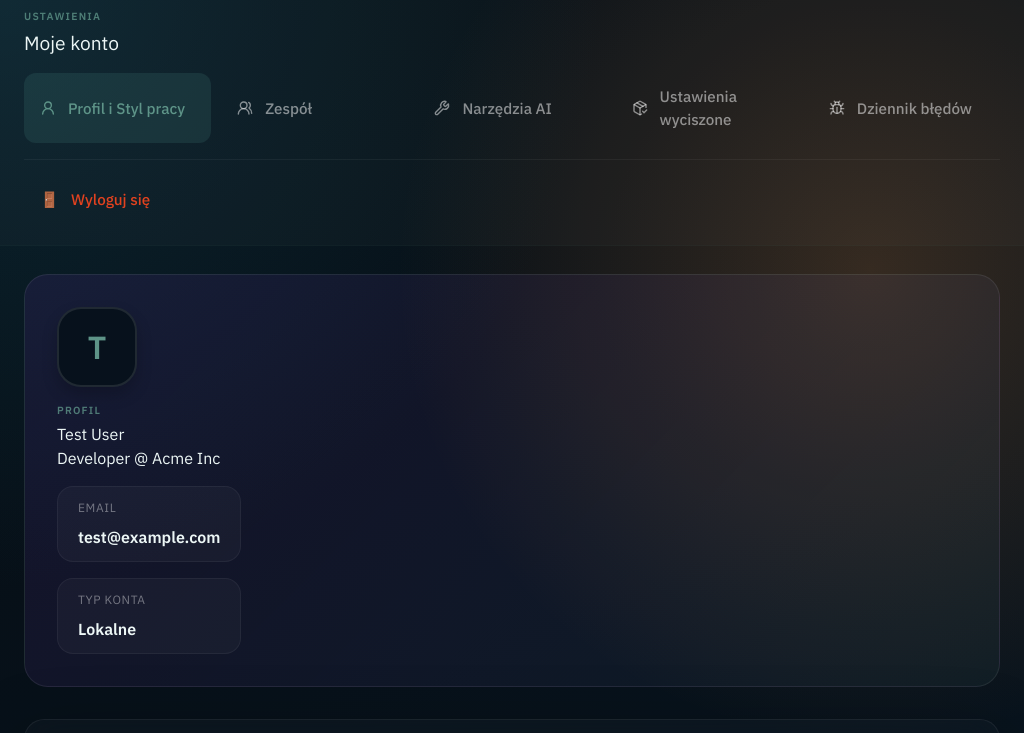
Test: ProfileTab › Vocabulary Section › prevents adding empty terms
Click the button "Narzędzia AI" at (512, 108), box x1=418 y1=73 x2=606 y2=143
(page scrolled)
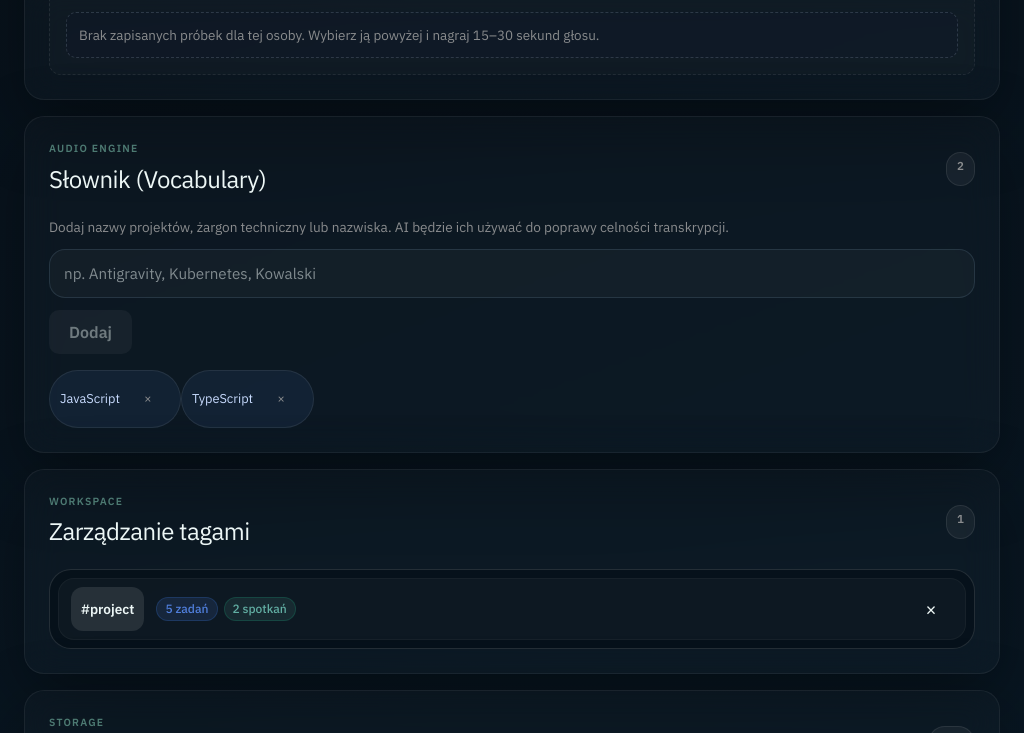
expect the heading "Słownik (Vocabulary)" is shown: met, box x1=49 y1=161 x2=266 y2=197
expect the button "Dodaj" is disabled: met, box x1=49 y1=310 x2=132 y2=354
